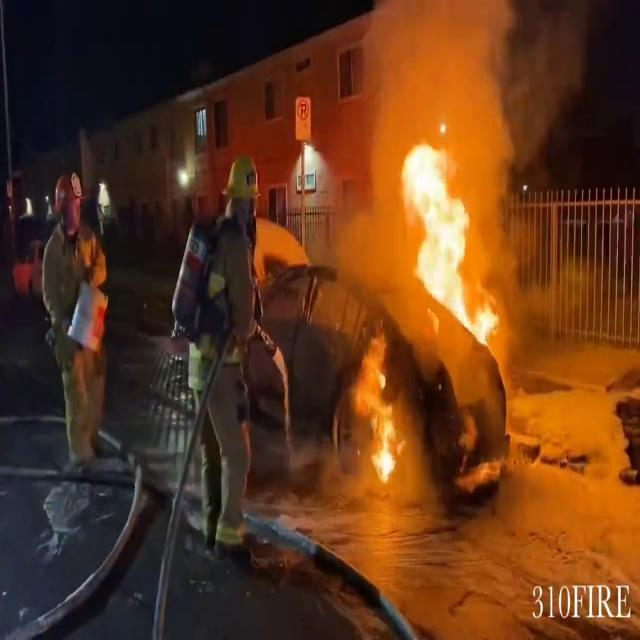Fire: (376, 125, 511, 346), (360, 332, 400, 493)
Smoke: (342, 0, 552, 144)
